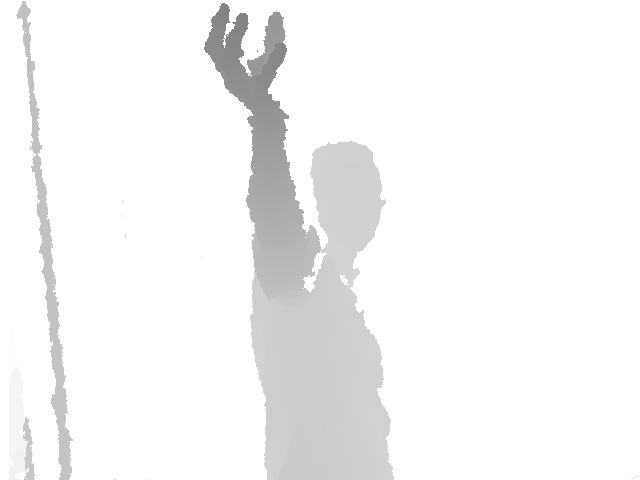hand: (203, 3, 289, 125)
head: (310, 142, 385, 267)
person: (202, 3, 397, 480)
